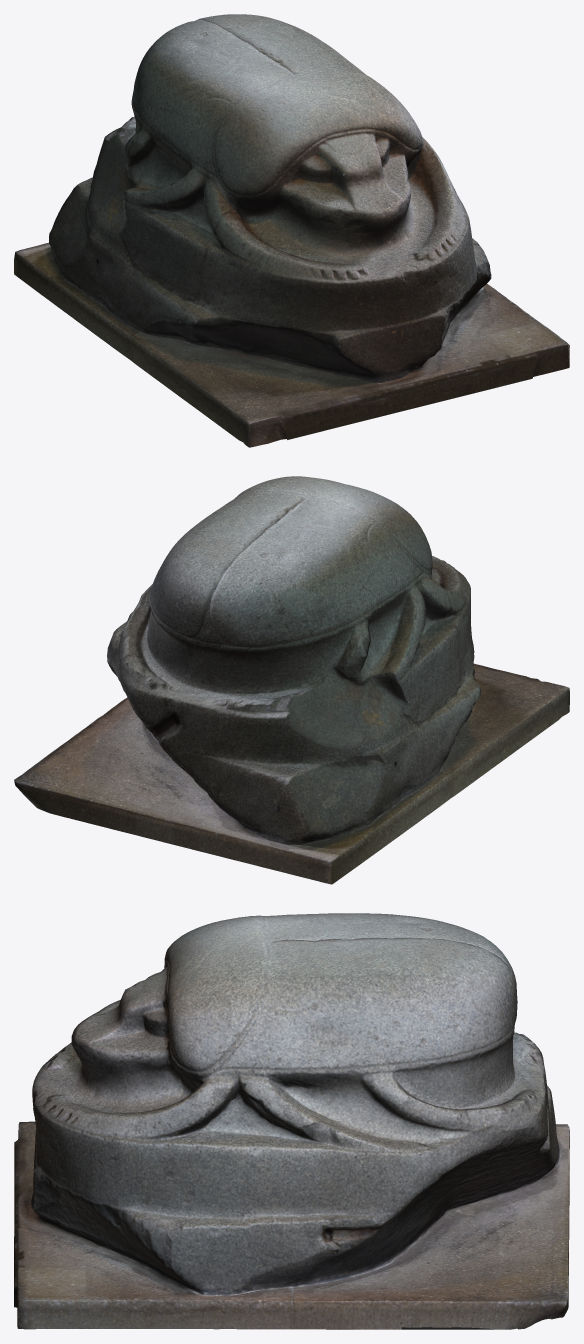
The model's file is scaa.fbx.
3 renders of one model, top to bottom at view 1: azimuth 30°, elevation 25°; view 2: azimuth 150°, elevation 25°; view 3: azimuth 270°, elevation 25°, orthographic. The views are drawn at different scales.
Visible parts, largest first — view 1: Object_3, Object_2; view 2: Object_3; view 3: Object_3.
Boxes of the visible parts, left/top/right/bottom form: Object_3: left=14, top=14, right=569, bottom=447; Object_2: left=282, top=356, right=537, bottom=439; Object_3: left=14, top=476, right=569, bottom=884; Object_3: left=14, top=913, right=569, bottom=1329.
Bounding box in the file's own units: 34.85 × 26.59 × 44.78.
Materials: 1 (1 with a texture image).
